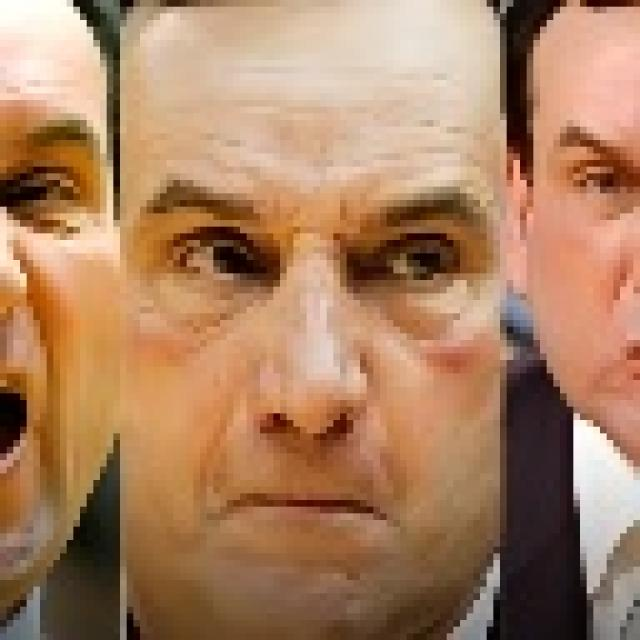angry: (127, 66, 481, 640)
